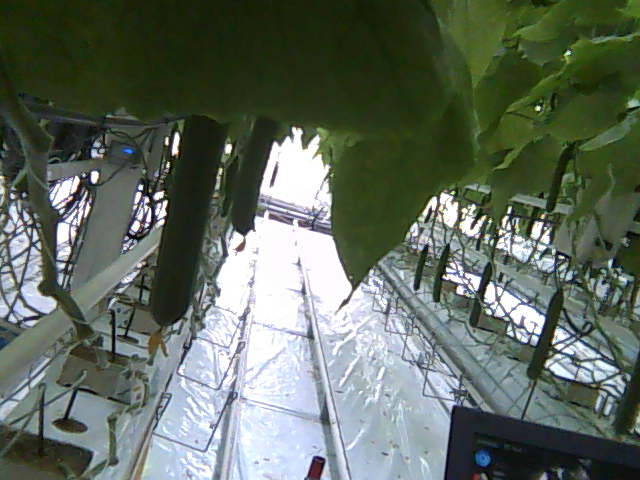concombre: (137, 113, 228, 361)
